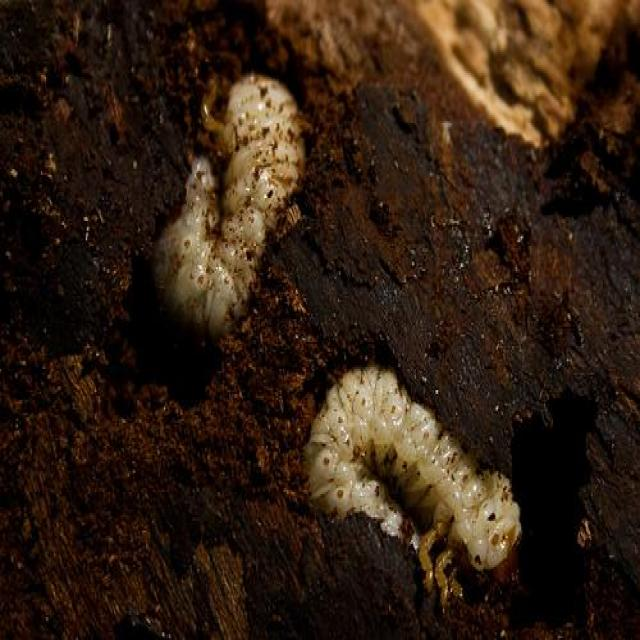Grub-Adult-: (297, 353, 549, 614), (150, 34, 309, 338)
